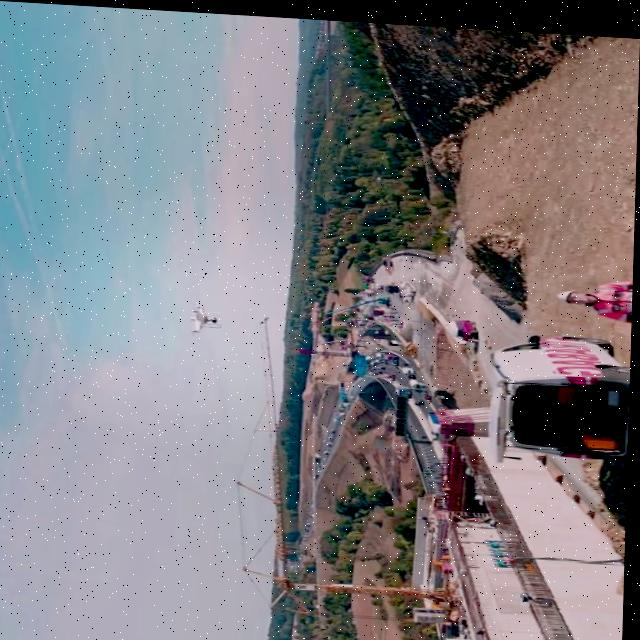drone: (187, 296, 227, 334)
